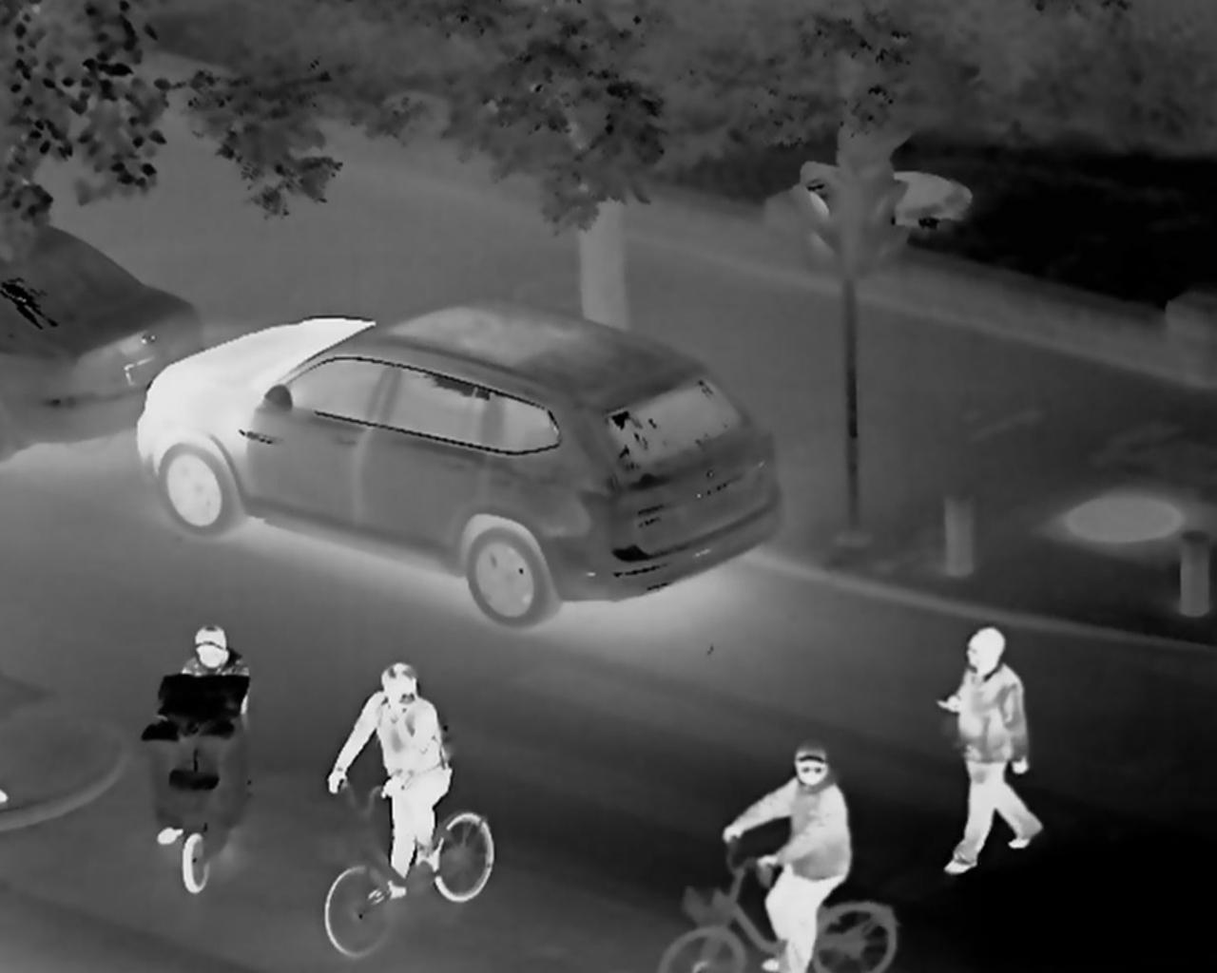person: (945, 620, 1037, 871), (755, 715, 835, 969), (355, 674, 454, 873), (168, 616, 245, 707)
